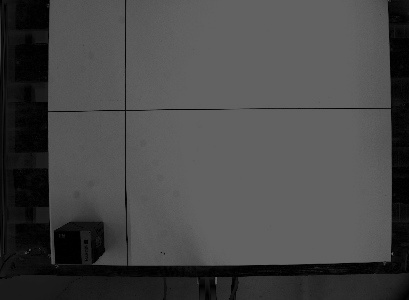b7: (52, 219, 106, 266)
